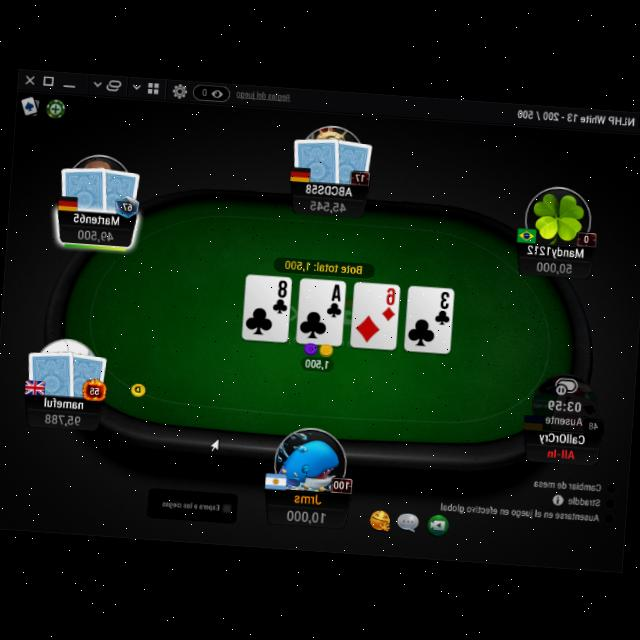3c: (432, 289, 452, 326)
6d: (378, 284, 398, 322)
8c: (272, 278, 290, 314)
Ac: (325, 280, 344, 318)
all_in_symbol: (547, 446, 576, 458)
bet_text: (302, 355, 328, 369)
card_back: (54, 160, 110, 216), (288, 131, 342, 184), (23, 345, 77, 398), (95, 164, 142, 217), (326, 135, 374, 186), (64, 349, 109, 401)
dealer: (128, 378, 148, 397)
pot_text: (281, 256, 364, 274)
stack_text: (284, 504, 328, 524), (75, 224, 114, 244), (534, 256, 573, 274), (307, 196, 348, 213), (43, 410, 82, 426)
